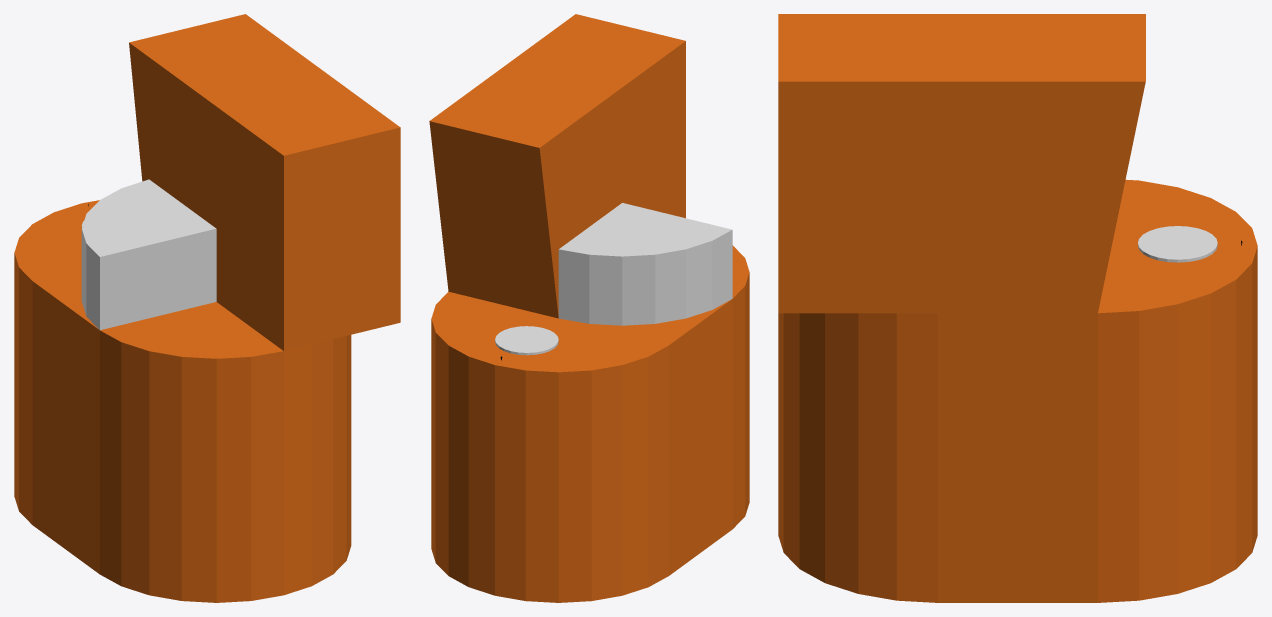
The picture shows the model from 3 angles, left to right: view 1: azimuth 30°, elevation 25°; view 2: azimuth 150°, elevation 25°; view 3: azimuth 270°, elevation 25°; orthographic projection. The views are drawn at different scales.
Parts seen in each view (by area): view 1: 崖1, 崖2, 施設; view 2: 崖1, 崖2, 施設, 遠景射撃場; view 3: 崖1, 崖2, 遠景射撃場.
Part boxes in pixels (x1,y1,x2,y2): 崖1: (14,200,351,602); 崖2: (129,14,400,350); 施設: (81,179,216,330); 崖1: (431,245,749,602); 崖2: (429,14,685,318); 施設: (558,203,732,325); 遠景射撃場: (495,326,558,355); 崖1: (778,179,1257,602); 崖2: (778,14,1145,313); 遠景射撃場: (1138,226,1217,262).
Bounding box in the file's own units: 100 × 180 × 150.
